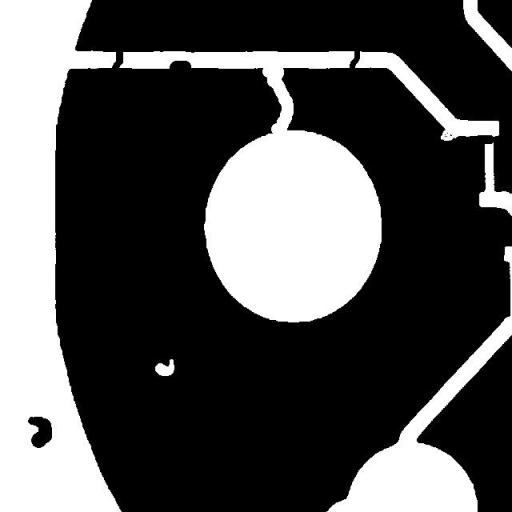copper: (20, 409, 59, 455)
mousebite: (433, 122, 461, 148)
open: (254, 58, 301, 142)
pin-hole: (147, 351, 182, 383)
short: (102, 40, 130, 83), (342, 39, 367, 77), (467, 127, 502, 151)
spur: (162, 53, 198, 81)
